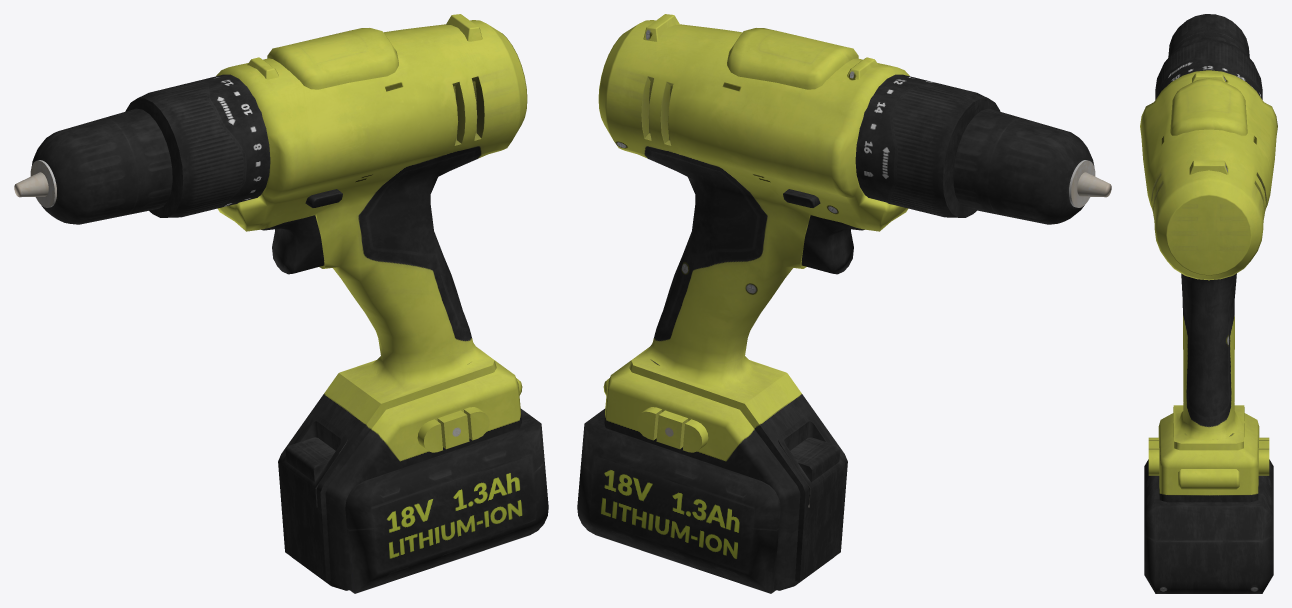
Rendered from Drill_01_4k.gltf.
3 views of the same model, side by side, from view 1: azimuth 30°, elevation 25°; view 2: azimuth 150°, elevation 25°; view 3: azimuth 270°, elevation 25° (orthographic). The views are drawn at different scales.
Parts seen in each view (by area): view 1: Drill_01; view 2: Drill_01; view 3: Drill_01.
Part boxes in pixels (left/top/right/bottom): Drill_01: left=14, top=14, right=548, bottom=593; Drill_01: left=577, top=14, right=1111, bottom=593; Drill_01: left=1140, top=14, right=1277, bottom=593.
Bounding box in the file's own units: 0.1829 × 0.1851 × 0.0524.
Materials: 1 (1 with a texture image).
